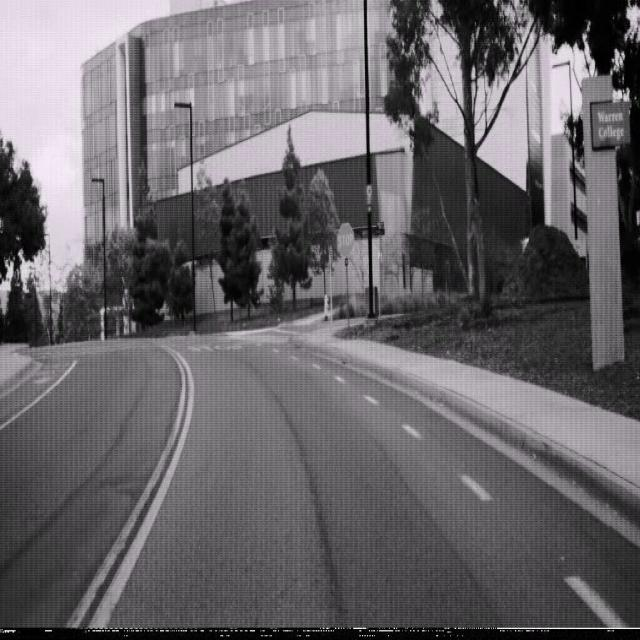stop_sign: (336, 222, 354, 257)
